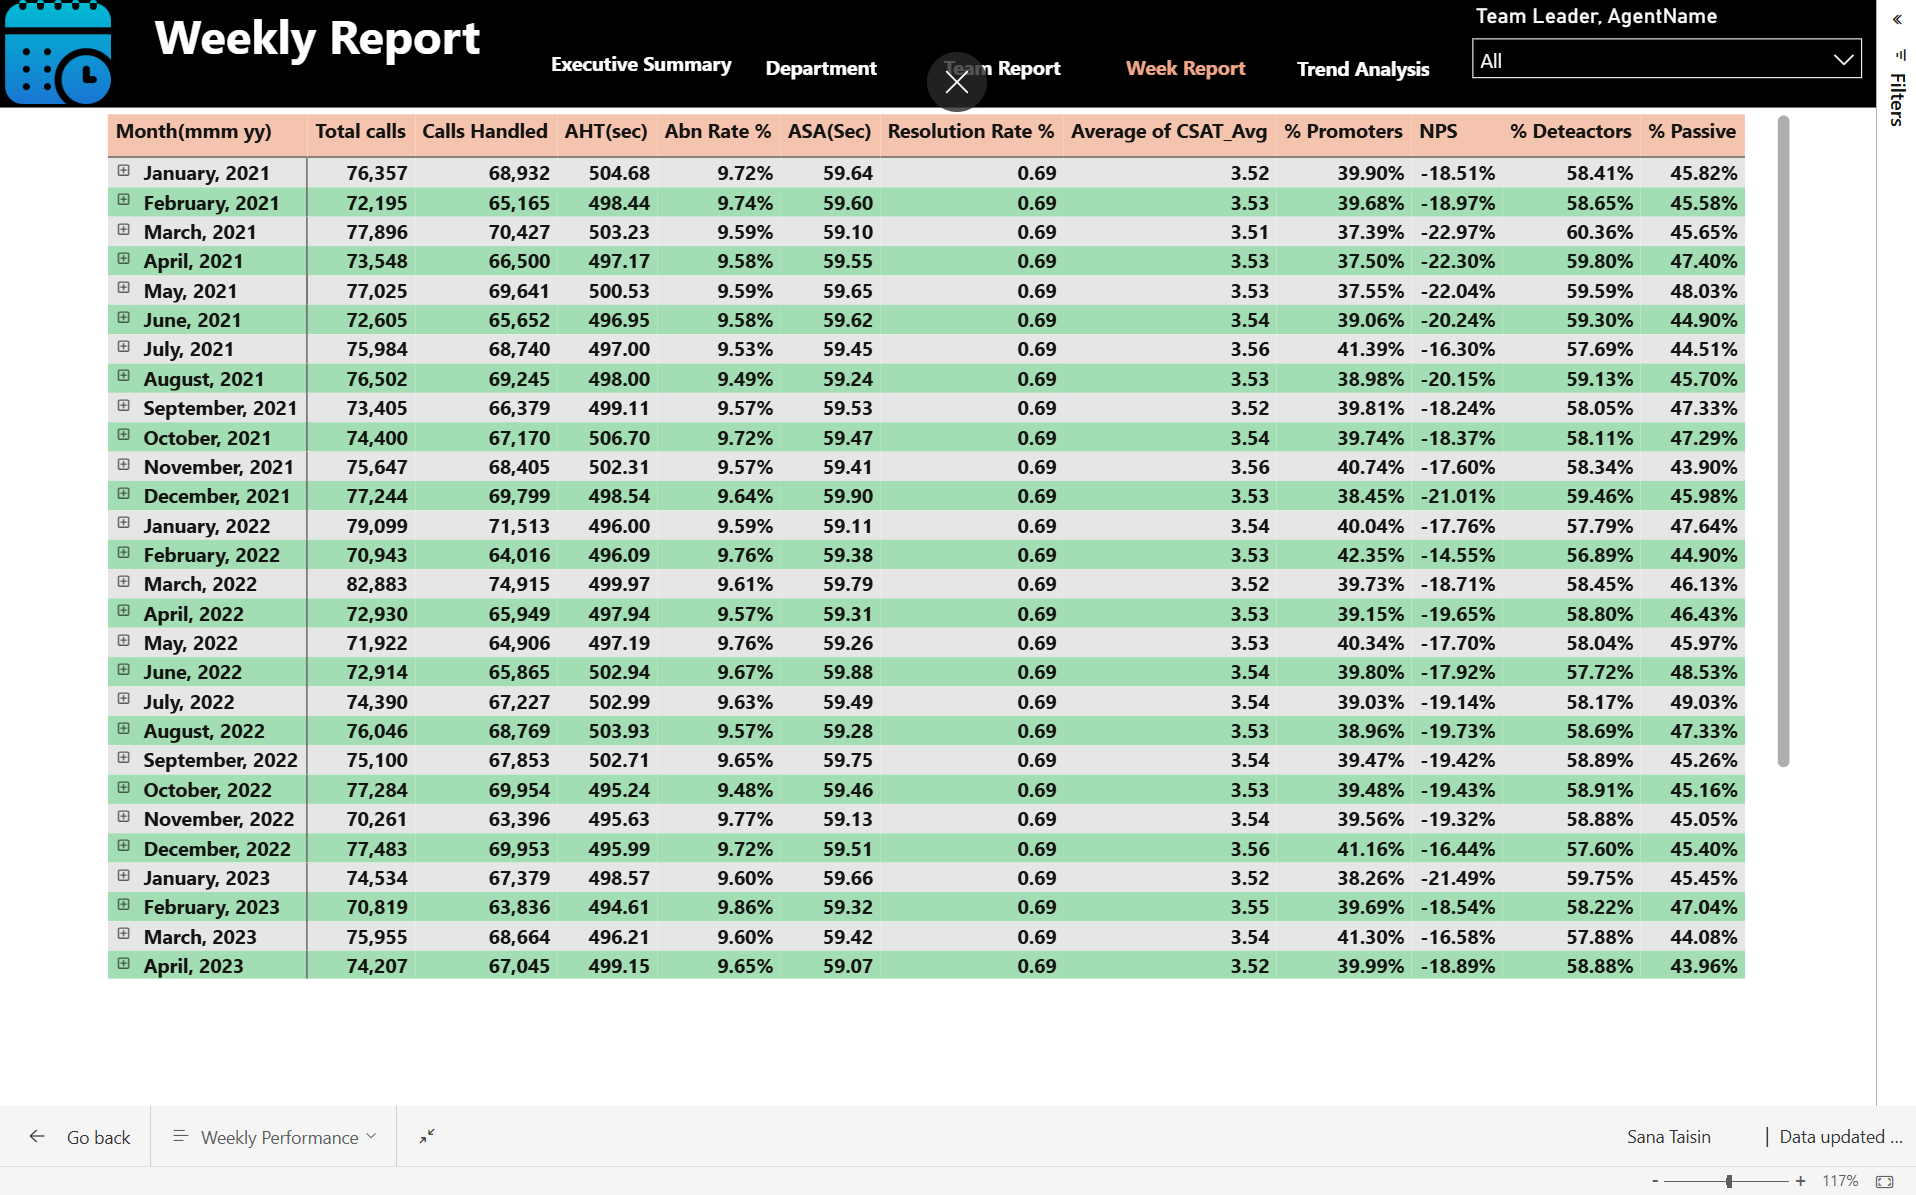

What the dashboard file says about the page in this screenshot:
{"tool":"powerbi","page":{"name":"Weekly Performance","canvas":[1280,720],"ordinal":5},"visuals":[{"type":"pivotTable","fields":{"Rows":["Calender.Month(mmm yy)","Calender.Week"],"Values":["MTable.Total calls","MTable.Calls Handled","MTable.AHT(sec)","MTable.Abn Rate %","MTable.ASA(Sec)","MTable.Resolution Rate %","Avg(Calls.CSAT_Avg)","MTable.% Promoters","MTable.NPS","MTable.% Deteactors","MTable.% Passive"]},"box":[70.9,75.6,1155.8,598.8],"z":0},{"type":"textbox","box":[0,0,1279.7,76.2],"z":1000},{"type":"actionButton","box":[366.3,26.7,145.3,38.6],"z":2000},{"type":"actionButton","box":[511.6,28.2,99.4,40],"z":3000},{"type":"actionButton","box":[610.9,28.2,148.3,40],"z":4000},{"type":"actionButton","box":[735.5,28.2,148.3,40],"z":5000},{"type":"slicer","fields":{"Values":["Agent.Team Leader","Agent.AgentName"]},"box":[994.2,0,286,57],"z":6000},{"type":"image","box":[0,0,83.1,76.2],"z":7000},{"type":"actionButton","box":[869,29.7,124.6,38.6],"z":8000}]}

Visuals, with their boxes on the page's 1280x720 design canvas (x1, y1, x2, y2). These are canvas units, not pixel positions in the 1916x1195 screenshot, which may show the page scaled, cropped or inside an application window:
pivotTable - Calender.Month(mmm yy) x Calender.Week: detection(71, 76, 1227, 674)
textbox: detection(0, 0, 1280, 76)
actionButton: detection(366, 27, 512, 65)
actionButton: detection(512, 28, 611, 68)
actionButton: detection(611, 28, 759, 68)
actionButton: detection(736, 28, 884, 68)
slicer - Agent.Team Leader x Agent.AgentName: detection(994, 0, 1280, 57)
image: detection(0, 0, 83, 76)
actionButton: detection(869, 30, 994, 68)
